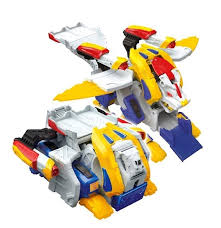backpack: (14, 124, 66, 163)
cake: (14, 21, 188, 218)
kite: (24, 80, 173, 214), (96, 77, 191, 170), (77, 112, 163, 209), (129, 64, 201, 155)
person: (48, 26, 178, 125), (20, 110, 125, 212), (116, 26, 198, 144), (15, 124, 91, 206)
